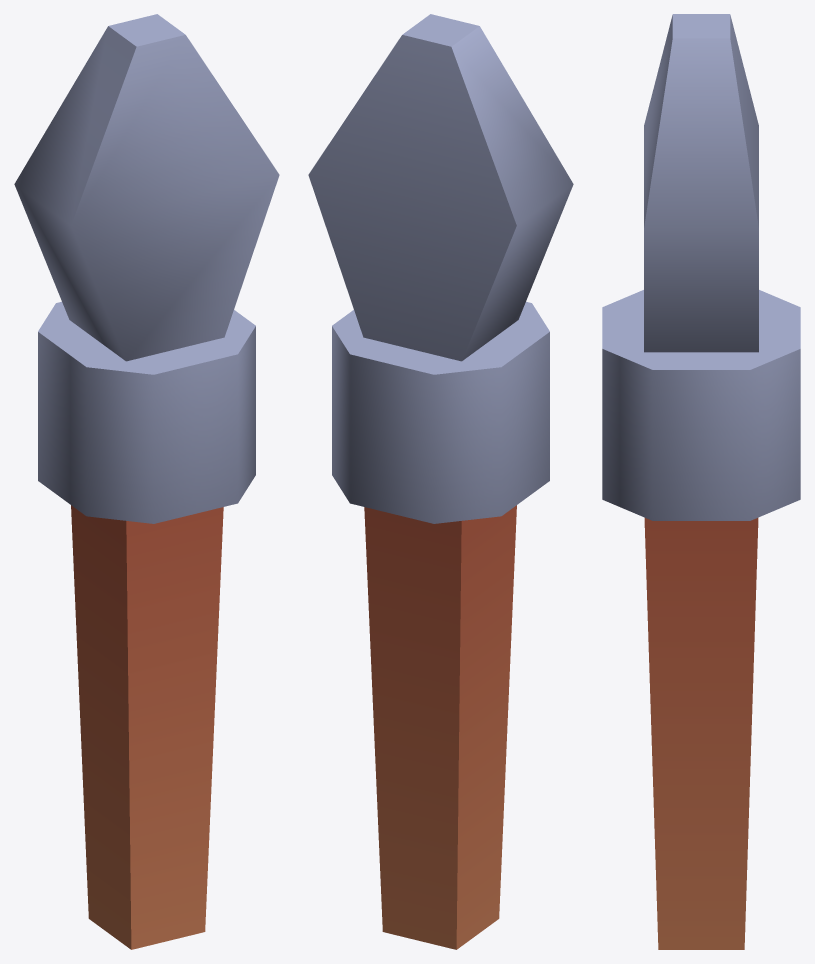
File: weapon-spear.obj
3 views of the same model, side by side, from view 1: azimuth 30°, elevation 25°; view 2: azimuth 150°, elevation 25°; view 3: azimuth 270°, elevation 25° (orthographic).
Parts seen in each view (by area): view 1: weapon-spear; view 2: weapon-spear; view 3: weapon-spear.
Part boxes in pixels (x1,y1,x2,y2): weapon-spear: (14,14,279,949); weapon-spear: (308,14,573,949); weapon-spear: (602,14,800,949).
Bounding box in the file's own units: 0.1463 × 0.6 × 0.119.
1 material, 1 textured.
